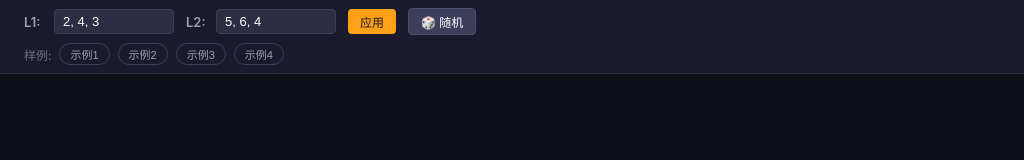
Test: DataInput › 输入超出范围的数字应该显示错误
Replace the text in the field with test id "l1-input" with "10" at (114, 22), box [54,9,174,34]
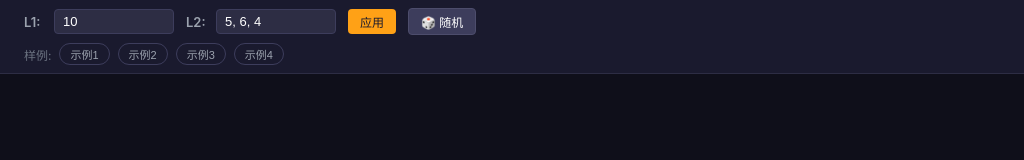
Click the button with test id "apply-btn".
click(372, 22)  # box [348,9,396,34]
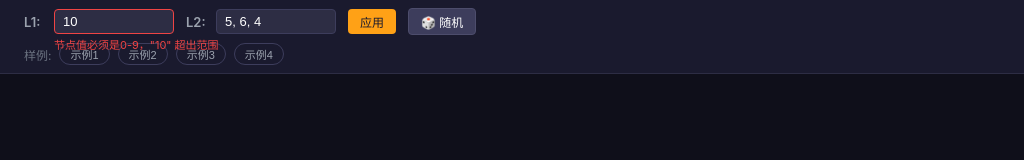
Expected: the text "节点值必须是0-9，\"10\" 超出范围" is shown, [54,36,219,52]
